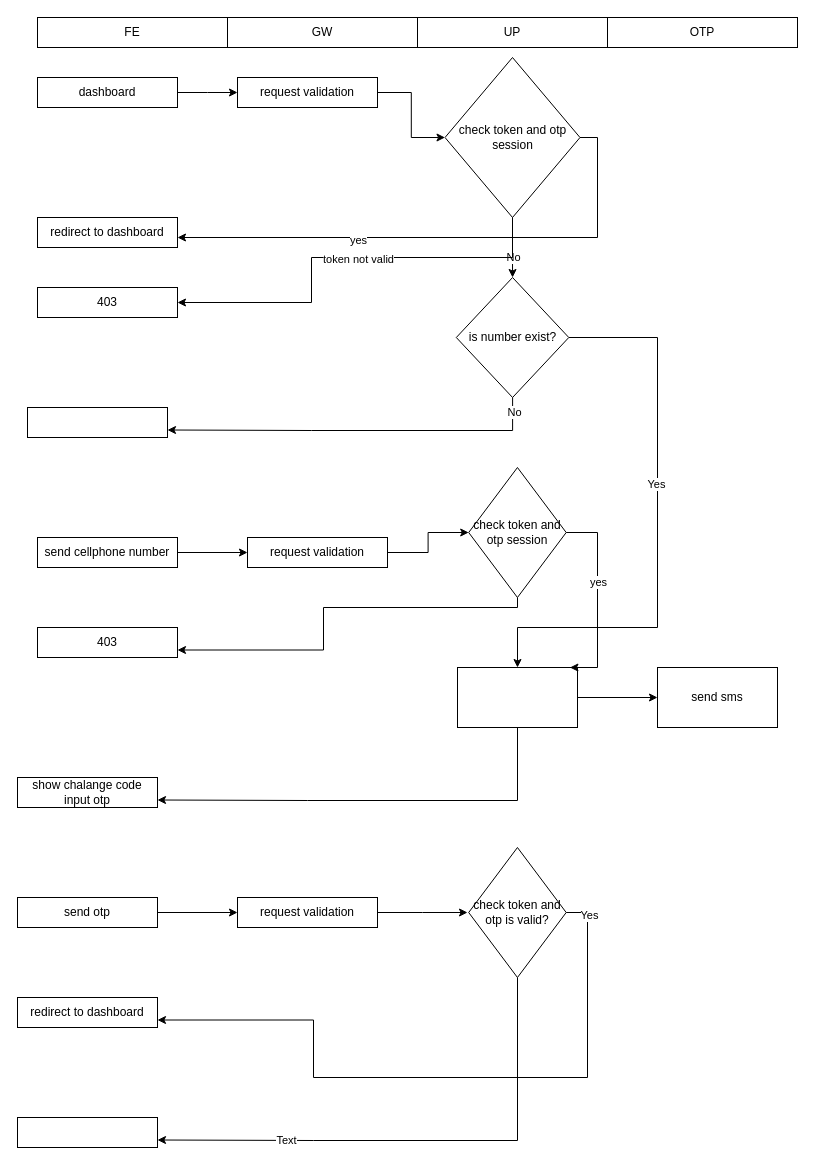
The diagram is 815 pixels wide and 1166 high, and some of its shapes have lost their labels. Each missing label, with the centre of its shape:
"Generate chalenge code and otp" goes at (517,697).
"input number" goes at (97,422).
"redirect to other page" goes at (87,1132).
